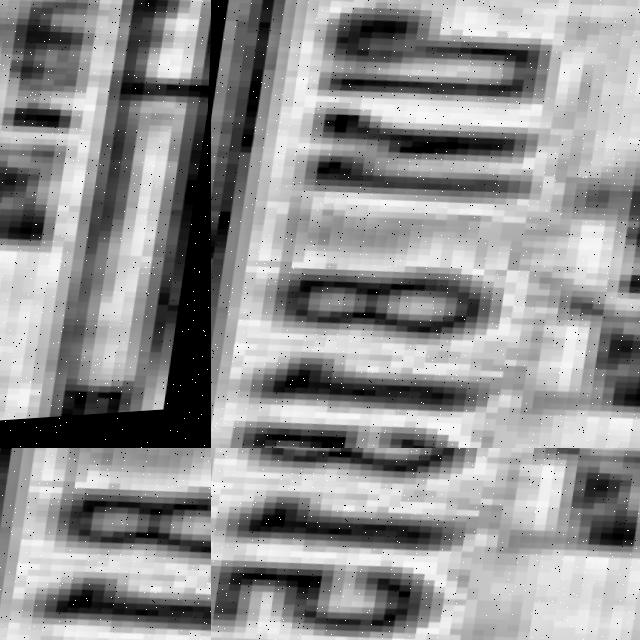license-plate: (211, 0, 640, 448), (0, 0, 211, 448), (211, 448, 640, 640), (0, 448, 211, 640)
